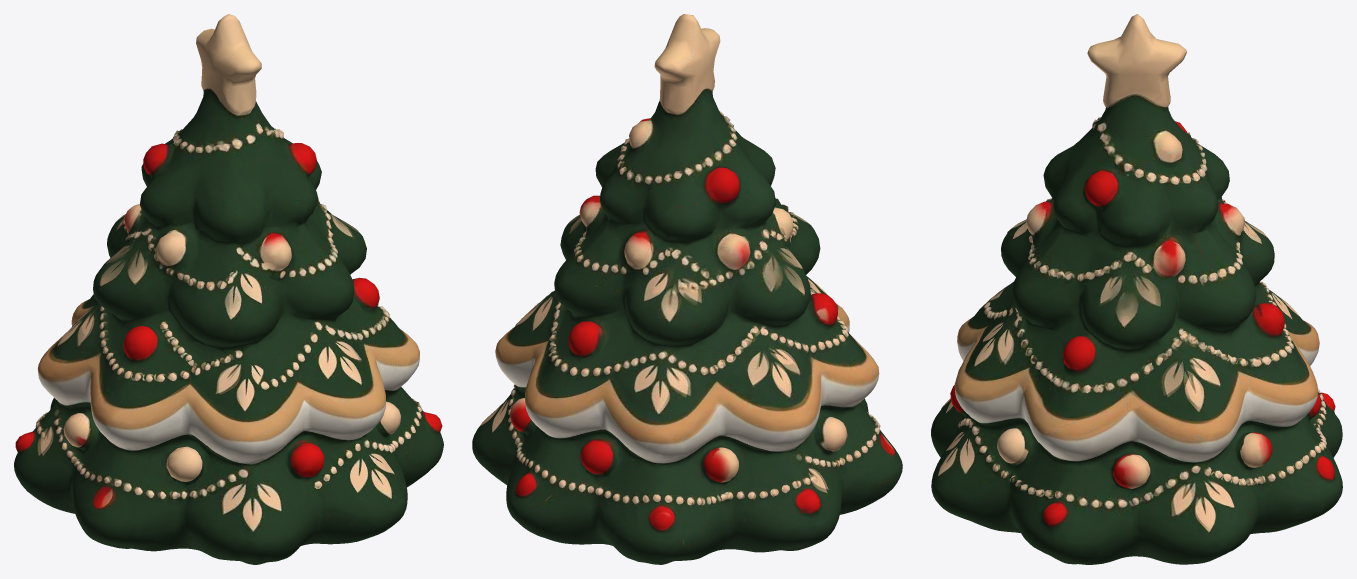
File: xmastree.glb
The picture shows the model from 3 angles, left to right: view 1: azimuth 30°, elevation 25°; view 2: azimuth 150°, elevation 25°; view 3: azimuth 270°, elevation 25°; orthographic projection.
Size of the model in its own units: 1.54 by 2 by 1.54.
1 material, 1 textured.
